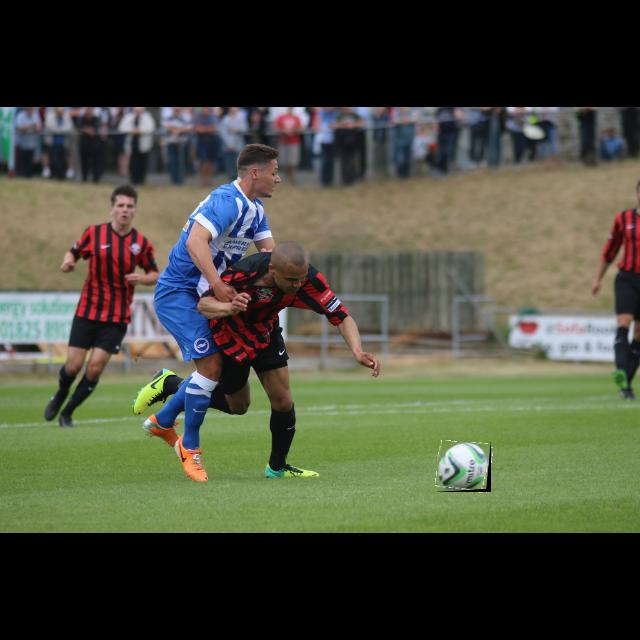Football: (437, 442, 491, 492)
